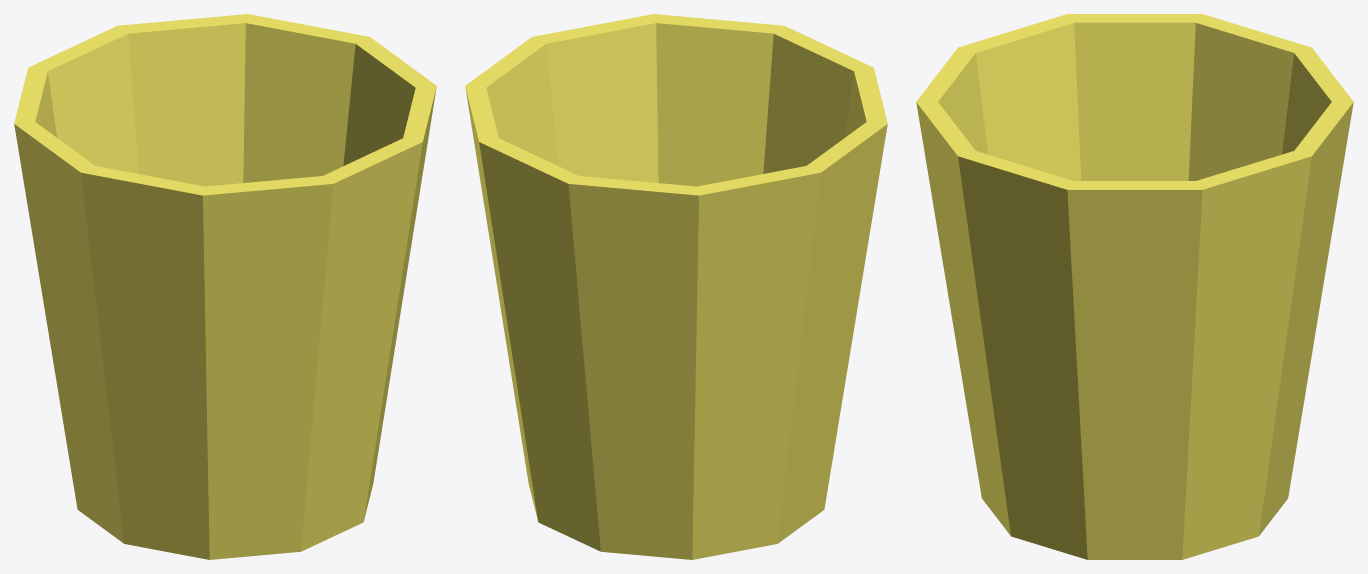
The model's file is yelow_bucket.fbx.
The picture shows the model from 3 angles, left to right: view 1: azimuth 30°, elevation 25°; view 2: azimuth 150°, elevation 25°; view 3: azimuth 270°, elevation 25°; orthographic projection.
Parts seen in each view (by area): view 1: Cylinder; view 2: Cylinder; view 3: Cylinder.
Part boxes in pixels (box(x1,y1,x2,y2)): Cylinder: box(14, 14, 436, 559); Cylinder: box(465, 14, 887, 559); Cylinder: box(916, 14, 1353, 559).
Bounding box in the file's own units: 190 × 200 × 200.
